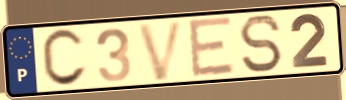2: (288, 11, 332, 71)
3: (94, 26, 132, 83)
C: (39, 26, 89, 90)
E: (186, 15, 237, 81)
S: (237, 13, 284, 75)
V: (135, 18, 187, 83)
